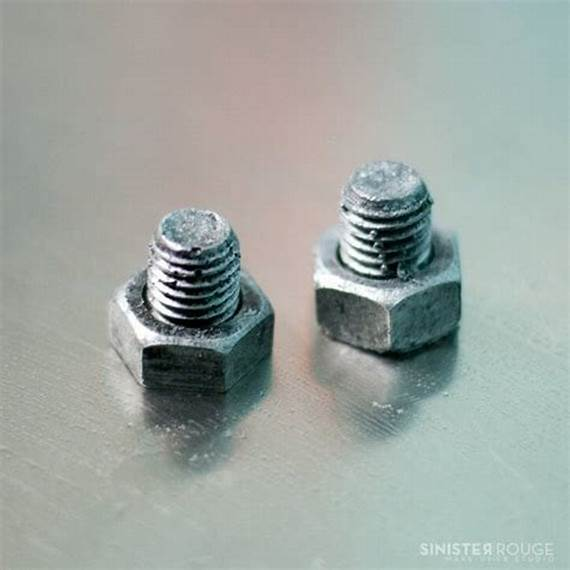bolt_b: (107, 248, 276, 395), (311, 212, 465, 357)
